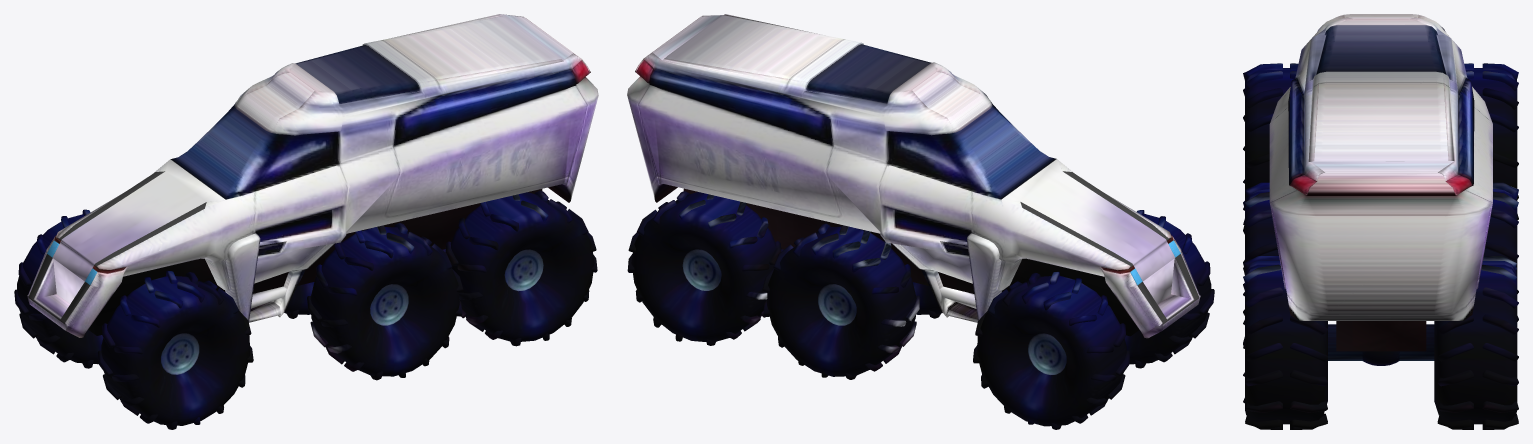
Rendered from truck.obj.
3 views of the same model, side by side, from view 1: azimuth 30°, elevation 25°; view 2: azimuth 150°, elevation 25°; view 3: azimuth 270°, elevation 25° (orthographic). The views are drawn at different scales.
Parts seen in each view (by area): view 1: truck_abedo, truck_tire, truck_glass, truck_lights; view 2: truck_abedo, truck_tire, truck_glass, truck_lights; view 3: truck_abedo, truck_tire, truck_glass, truck_lights.
Part boxes in pixels (x1,y1,x2,y2): truck_abedo: (27, 14, 598, 374); truck_tire: (14, 190, 597, 429); truck_glass: (173, 44, 576, 197); truck_lights: (47, 60, 589, 285); truck_abedo: (627, 14, 1200, 374); truck_tire: (627, 191, 1214, 429); truck_glass: (649, 44, 1053, 197); truck_lights: (636, 59, 1180, 285); truck_abedo: (1269, 14, 1492, 351); truck_tire: (1243, 63, 1518, 429); truck_glass: (1288, 25, 1474, 185); truck_lights: (1290, 175, 1472, 194).
Size of the model in its own units: 3.53 by 1.75 by 1.43.
